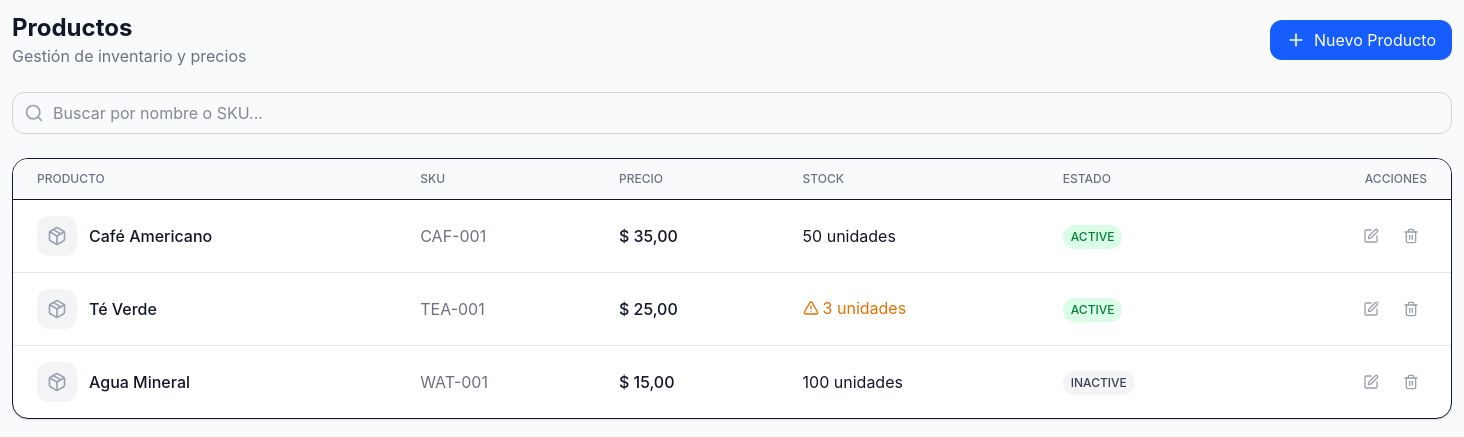
Test: ProductsPage › Search Functionality › should filter products by SKU
Expected: the text "Café Americano" is shown, top-left (89, 224), bottom-right (212, 248)
Type "TEA" into the field with placeholder "Buscar por nombre o SKU..." at (732, 113), box top-left (12, 92), bottom-right (1452, 134)
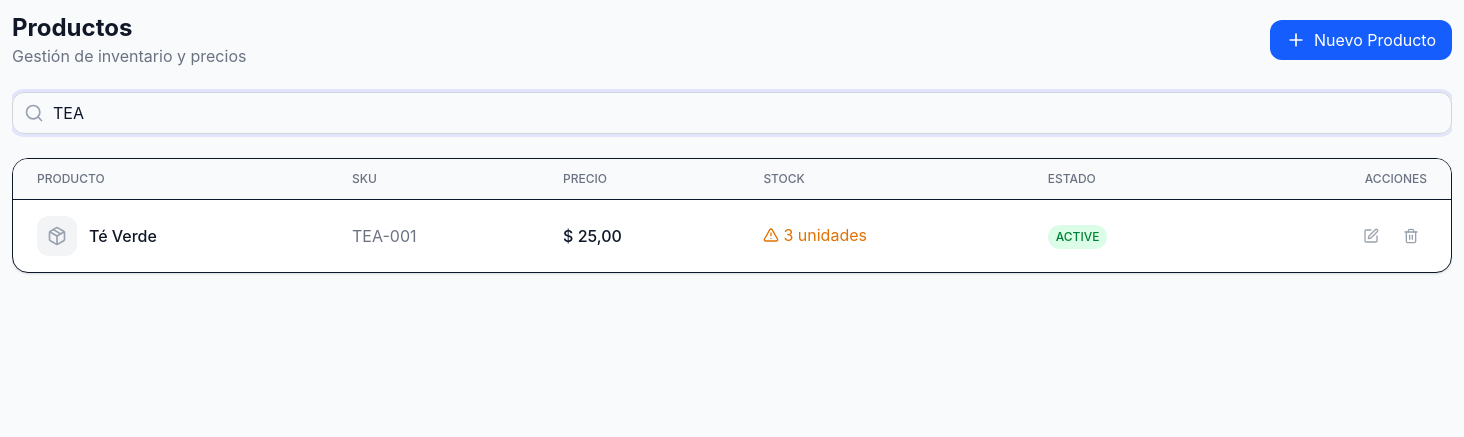
Expected: the text "Té Verde" is shown, top-left (89, 224), bottom-right (157, 248)
Now the text "Café Americano" is gone
